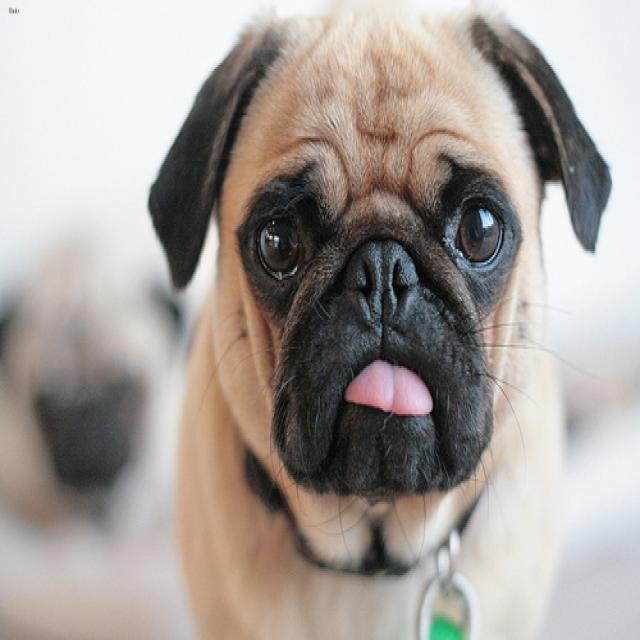dog-pug: (142, 2, 622, 636)
